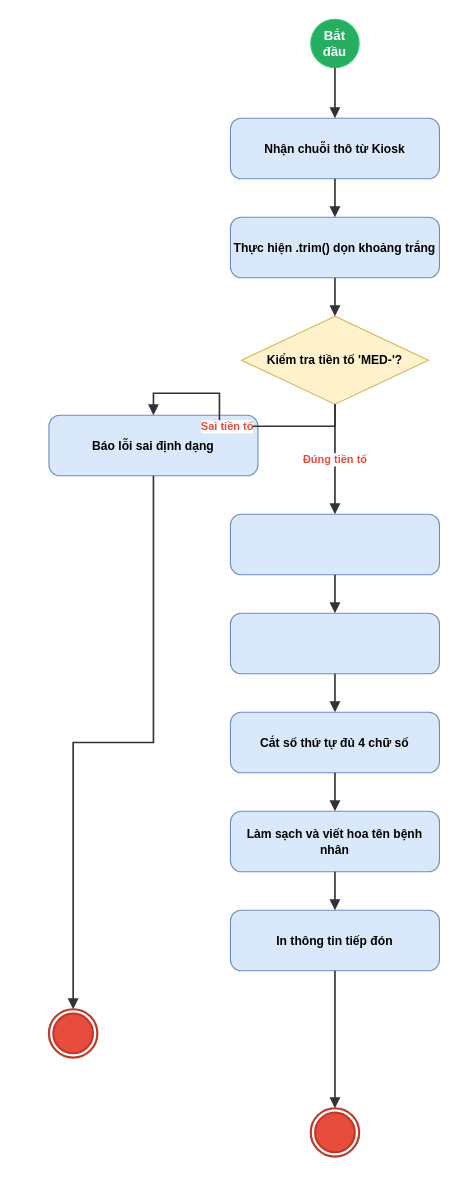
This 459x1177 diagram has some shape labels left out. Here are the shapes that lost their labels. From the top down, the centre of each, then its label:
[334,544]: Chuyển chuỗi sang chữ hoa
[334,643]: Cắt mã chuyên khoa đúng index
[72,1033]: Kết thúc: Từ chối
[334,1132]: Kết thúc: Thành công
